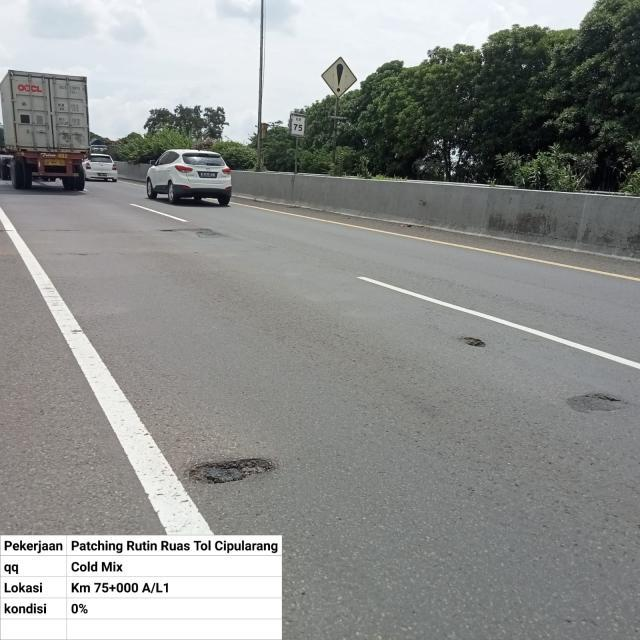Buraco: (181, 455, 279, 488), (562, 391, 633, 416), (460, 335, 489, 350), (194, 227, 223, 240)
